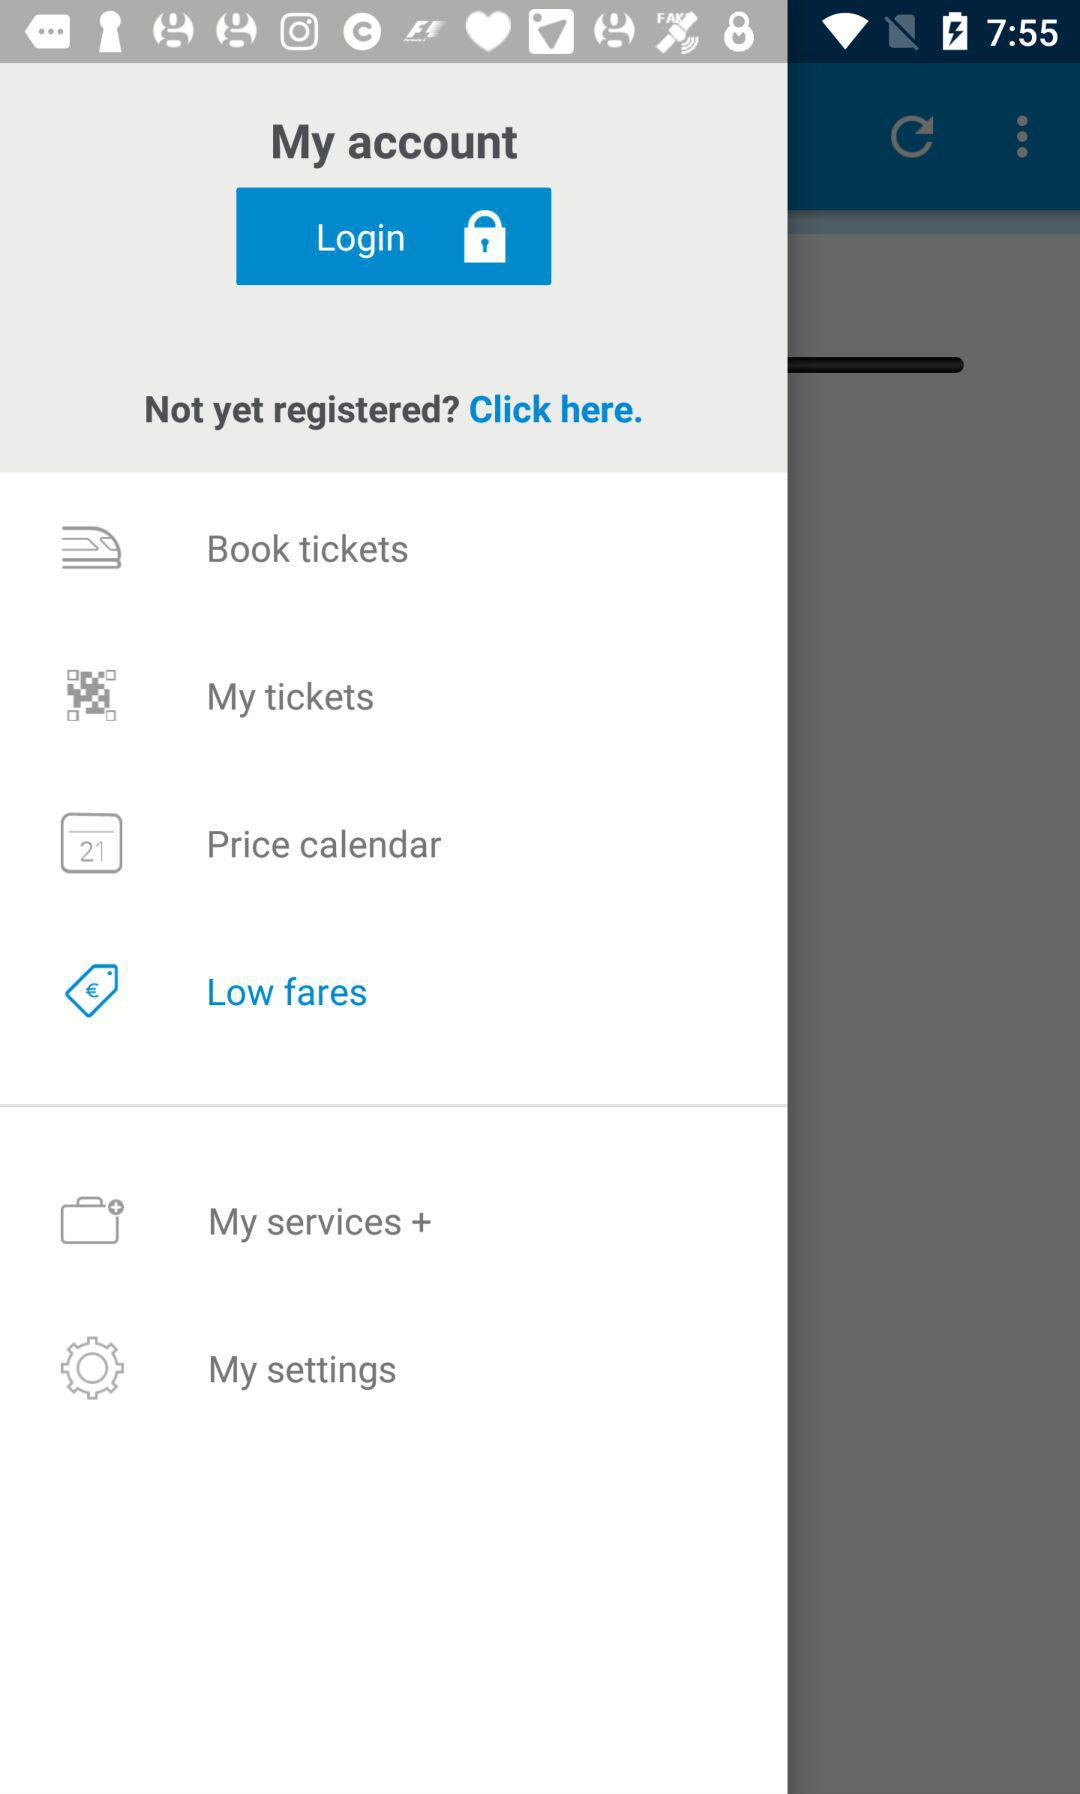Drawer: (1, 64, 787, 1794)
Icon: (61, 1335, 126, 1401), (61, 812, 124, 875), (61, 1196, 126, 1246), (65, 964, 120, 1019), (890, 115, 937, 160), (1016, 115, 1029, 161)
Image: (61, 525, 123, 572), (67, 668, 118, 723)
Text: (145, 393, 643, 432), (272, 124, 519, 170), (210, 1206, 433, 1244), (208, 828, 445, 861), (210, 1354, 398, 1393), (208, 531, 409, 565), (208, 680, 375, 719), (208, 975, 369, 1008)
TextButton: (236, 187, 553, 287)
UpperTaskBar: (1, 1, 1080, 64)
